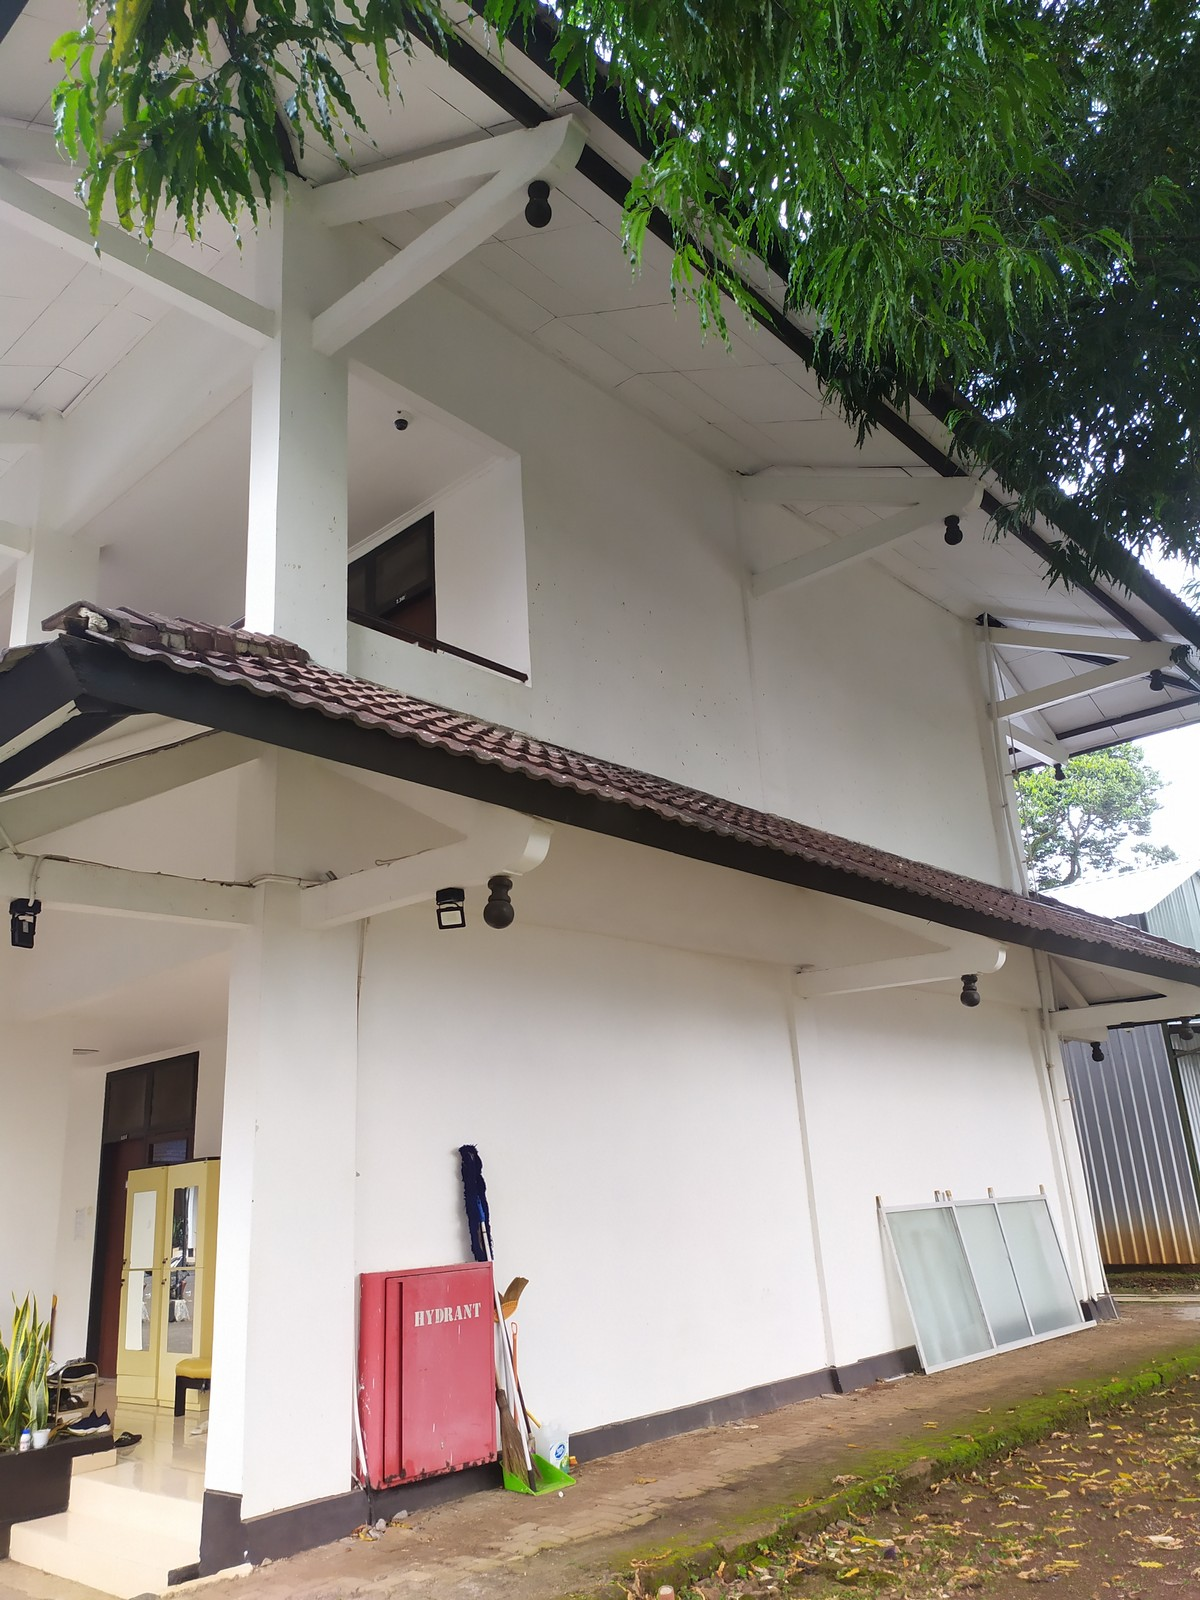concrete beam: (32, 184, 284, 344), (299, 217, 518, 360), (58, 848, 270, 934), (286, 850, 466, 944), (749, 519, 934, 596), (795, 932, 961, 1012)
concrete column: (195, 758, 379, 1538), (232, 184, 368, 671)
